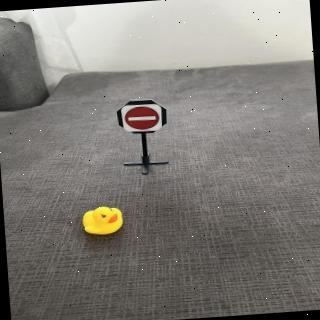duck_regular: (80, 204, 128, 238)
sign_noentry: (121, 102, 165, 135)
